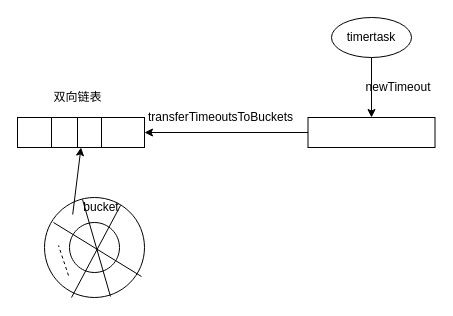
Some shapes in this 453 by 316 pixel diagram are drawn without their labels. Each missing label, with the box of its shape:
head tail: (16, 116, 144, 148)
timeouts list: (307, 116, 435, 148)
